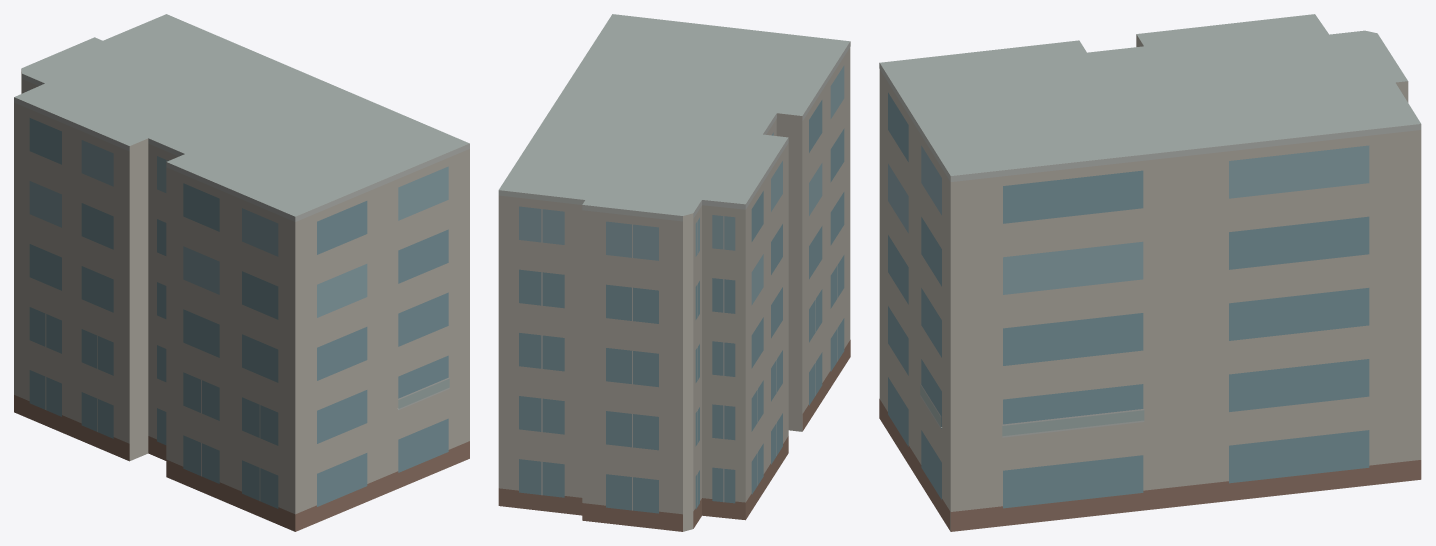
Rendered from survey-upis-32613544.glb.
The picture shows the model from 3 angles, left to right: view 1: azimuth 30°, elevation 25°; view 2: azimuth 150°, elevation 25°; view 3: azimuth 270°, elevation 25°; orthographic projection. The views are drawn at different scales.
Parts seen in each view (by area): view 1: survey-upis-32613544.tmp; view 2: survey-upis-32613544.tmp; view 3: survey-upis-32613544.tmp.
Part boxes in pixels (left/top/right/bottom): survey-upis-32613544.tmp: left=14, top=14, right=469, bottom=531; survey-upis-32613544.tmp: left=498, top=14, right=850, bottom=531; survey-upis-32613544.tmp: left=879, top=14, right=1421, bottom=531.
Size of the model in its own units: 14.09 by 14.4 by 19.89.
